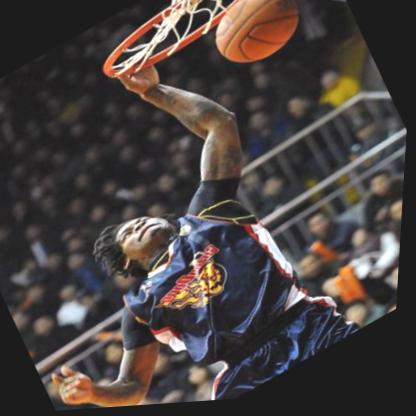basketball: (202, 0, 313, 82)
